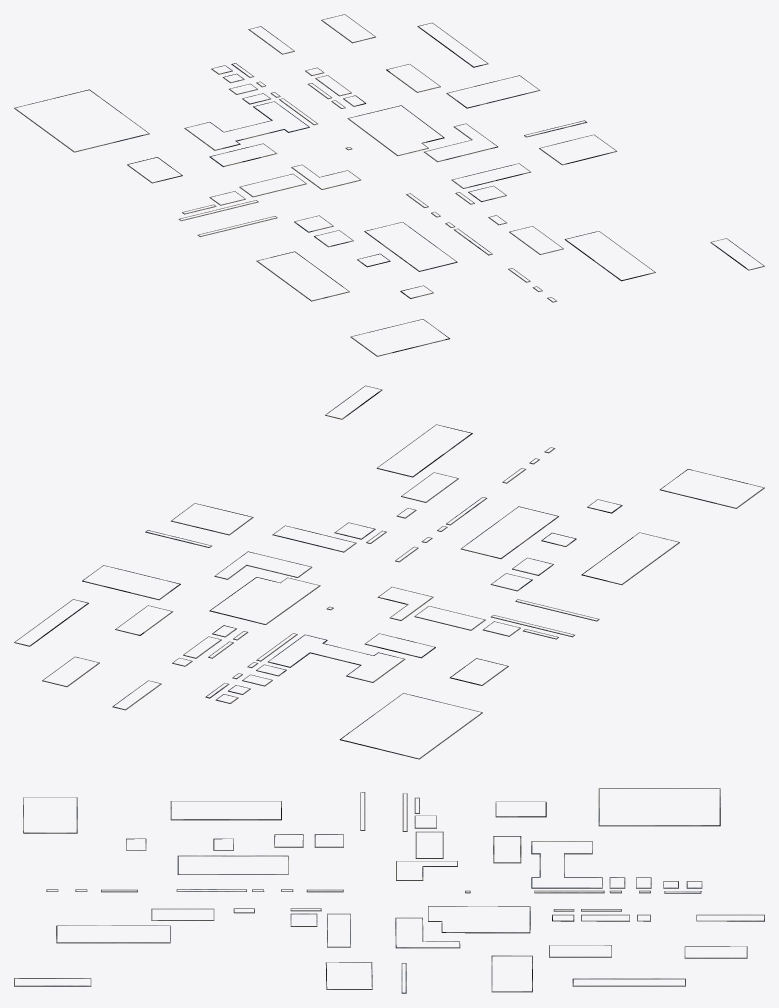
3 renders of one model, top to bottom at view 1: azimuth 30°, elevation 25°; view 2: azimuth 150°, elevation 25°; view 3: azimuth 270°, elevation 25°, orthographic. The views are drawn at different scales.
Visible parts, largest first — view 1: grass.001; view 2: grass.001; view 3: grass.001.
Part boxes in pixels (x1,y1,x2,y2): grass.001: (14,14,764,356); grass.001: (14,385,764,759); grass.001: (14,788,764,993).
Size of the model in its own units: 102 by 0.1349 by 158.
Materials: 1 (1 with a texture image).
